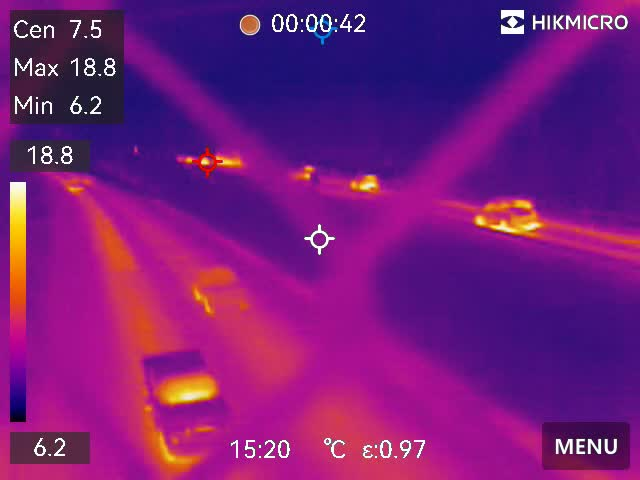vehicle: (133, 351, 241, 451), (480, 196, 536, 234)
